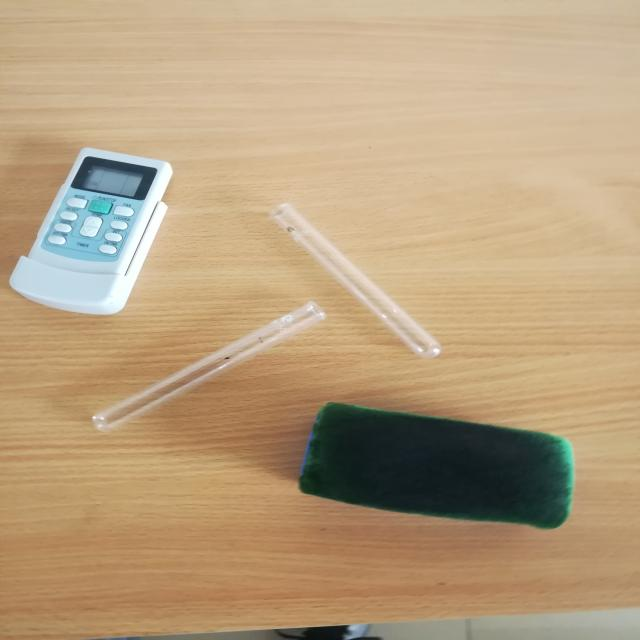Test_Tube: (62, 283, 327, 442), (256, 184, 464, 380)
